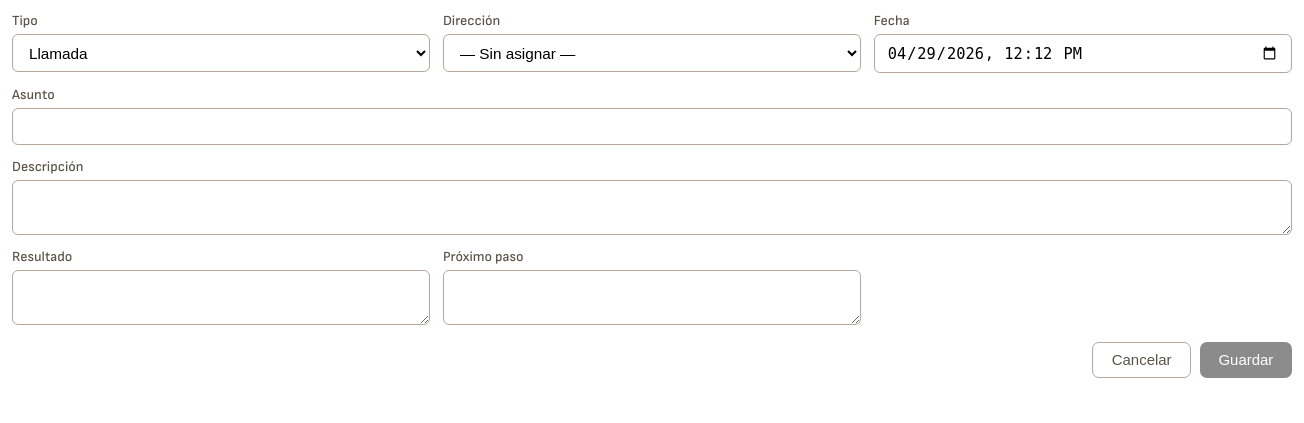
ActivityForm › shows error when submission fails
Step 1. Type "x" into the field labelled "Asunto" → (652, 126), box x1=12 y1=108 x2=1292 y2=145
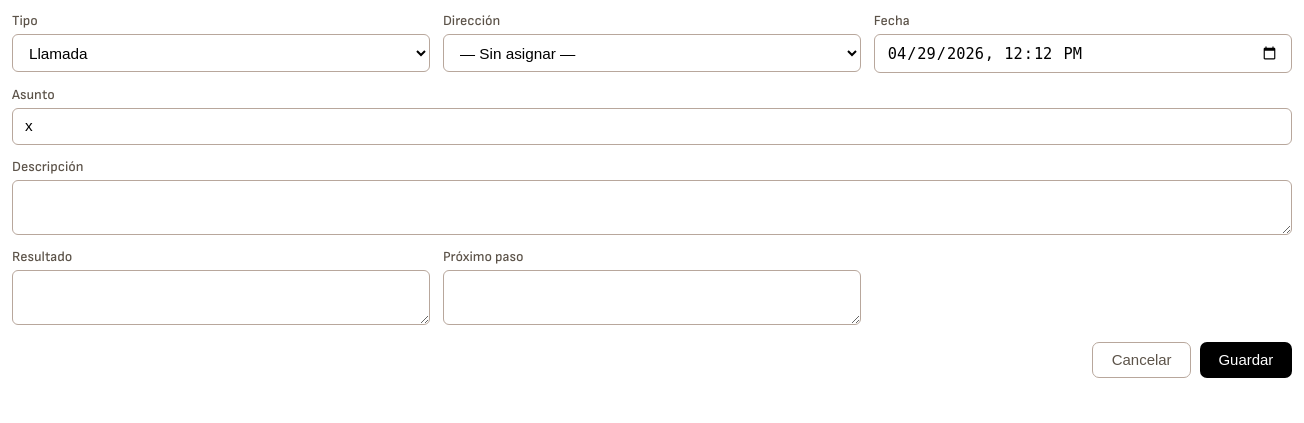
Step 2. Click the button "Guardar" → click(1246, 360), box x1=1200 y1=342 x2=1292 y2=378
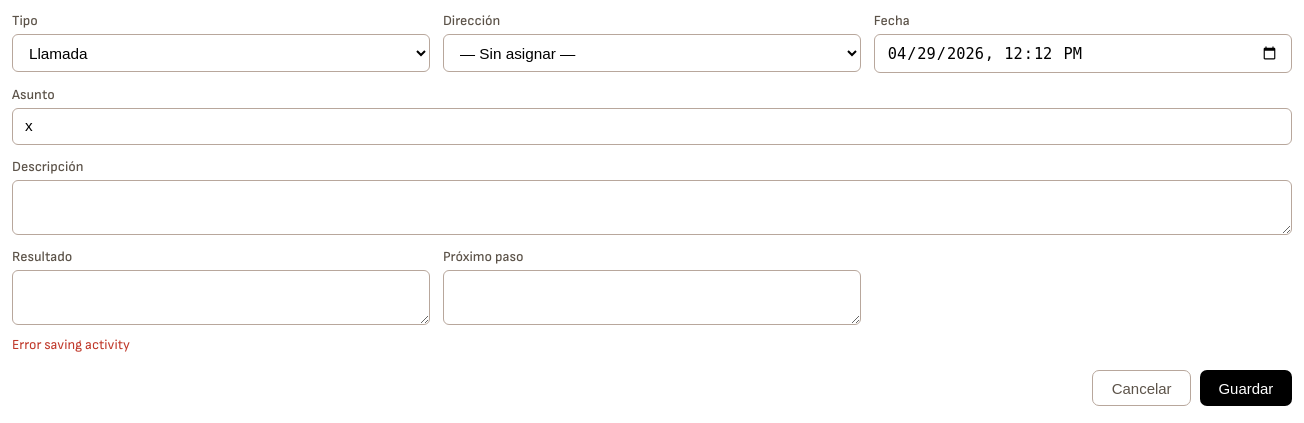
Expected: the text "Error saving activity" is shown, x1=12 y1=337 x2=130 y2=353
